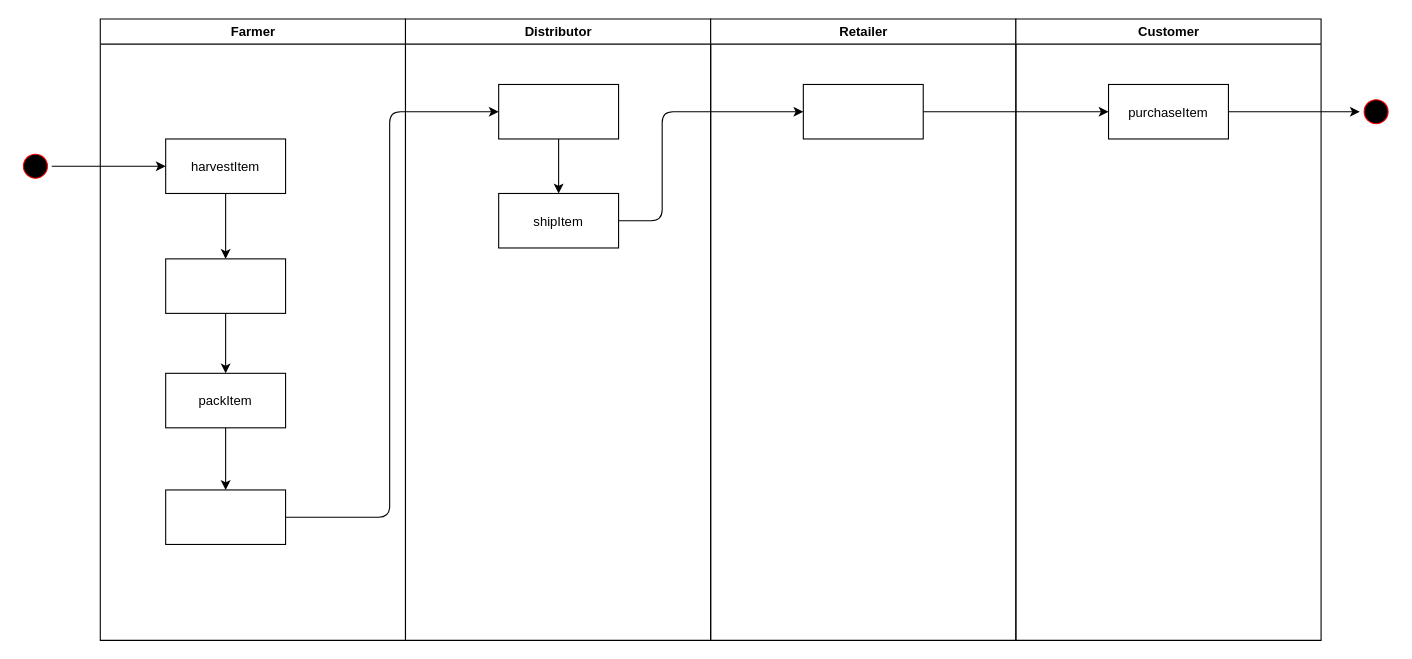
The diagram is 1412 pixels wide and 659 high, and some of its shapes have lost their labels. Each missing label, with the centre of its shape:
buyItem: point 558,111
processItem: point 225,285
receiveItem: point 862,111
sellItem: point 225,516
